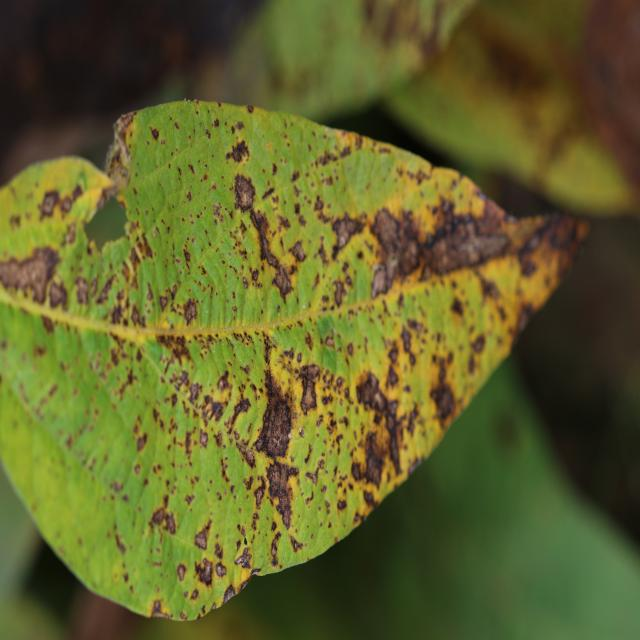Bacterial_Blight: (417, 207, 510, 276), (247, 344, 297, 467), (357, 367, 408, 477), (0, 246, 61, 303), (369, 207, 413, 285), (100, 113, 136, 197), (427, 346, 461, 428), (328, 211, 363, 256), (159, 333, 196, 372), (232, 174, 256, 212), (150, 503, 177, 536), (201, 391, 227, 424), (273, 265, 294, 300), (95, 274, 116, 306), (226, 138, 250, 165), (516, 304, 534, 337), (40, 189, 61, 217), (136, 232, 154, 261), (400, 324, 415, 355), (198, 558, 214, 585), (289, 240, 307, 263), (332, 279, 346, 308), (183, 298, 198, 325), (235, 547, 252, 570), (270, 532, 282, 564), (62, 222, 78, 246), (386, 363, 400, 389), (150, 599, 168, 618), (188, 381, 202, 405), (470, 333, 486, 354), (114, 531, 127, 555), (194, 529, 208, 551), (242, 446, 256, 467), (253, 486, 265, 510), (211, 202, 224, 223), (222, 585, 236, 604), (305, 363, 320, 380), (351, 460, 363, 481), (217, 373, 230, 392), (130, 304, 141, 326), (136, 432, 148, 452), (290, 536, 303, 554), (261, 186, 276, 201), (176, 562, 187, 582), (363, 489, 375, 507), (183, 247, 192, 270), (110, 479, 124, 493), (304, 332, 314, 351), (199, 429, 209, 448), (149, 126, 160, 141), (250, 268, 260, 284), (184, 493, 195, 507), (239, 576, 250, 590), (159, 294, 168, 311), (290, 168, 300, 182), (337, 498, 347, 512), (325, 335, 335, 348), (190, 588, 199, 601), (241, 275, 249, 289), (188, 163, 196, 176), (211, 117, 220, 128), (271, 161, 278, 175), (134, 463, 141, 474), (186, 190, 192, 202), (174, 120, 180, 130), (152, 226, 157, 238), (243, 535, 248, 546), (266, 141, 272, 150), (183, 590, 189, 599), (193, 98, 199, 105)
Soybean: (0, 102, 587, 620)
